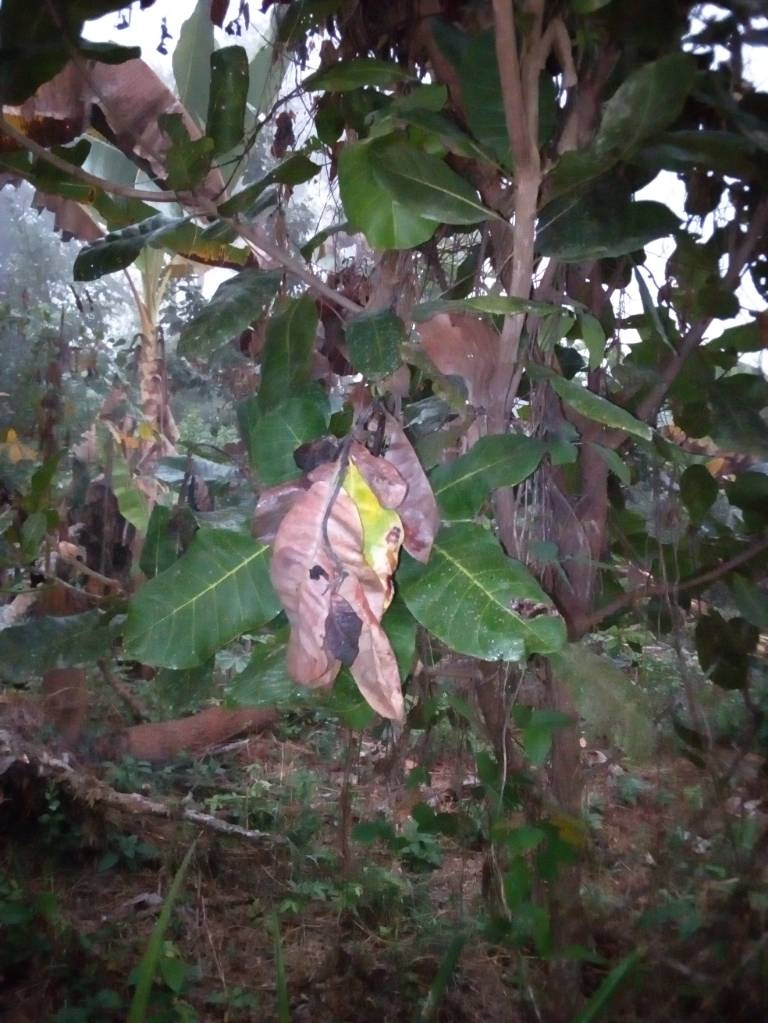Dessèchement des bourgeons: (269, 472, 415, 716), (355, 402, 438, 566)
